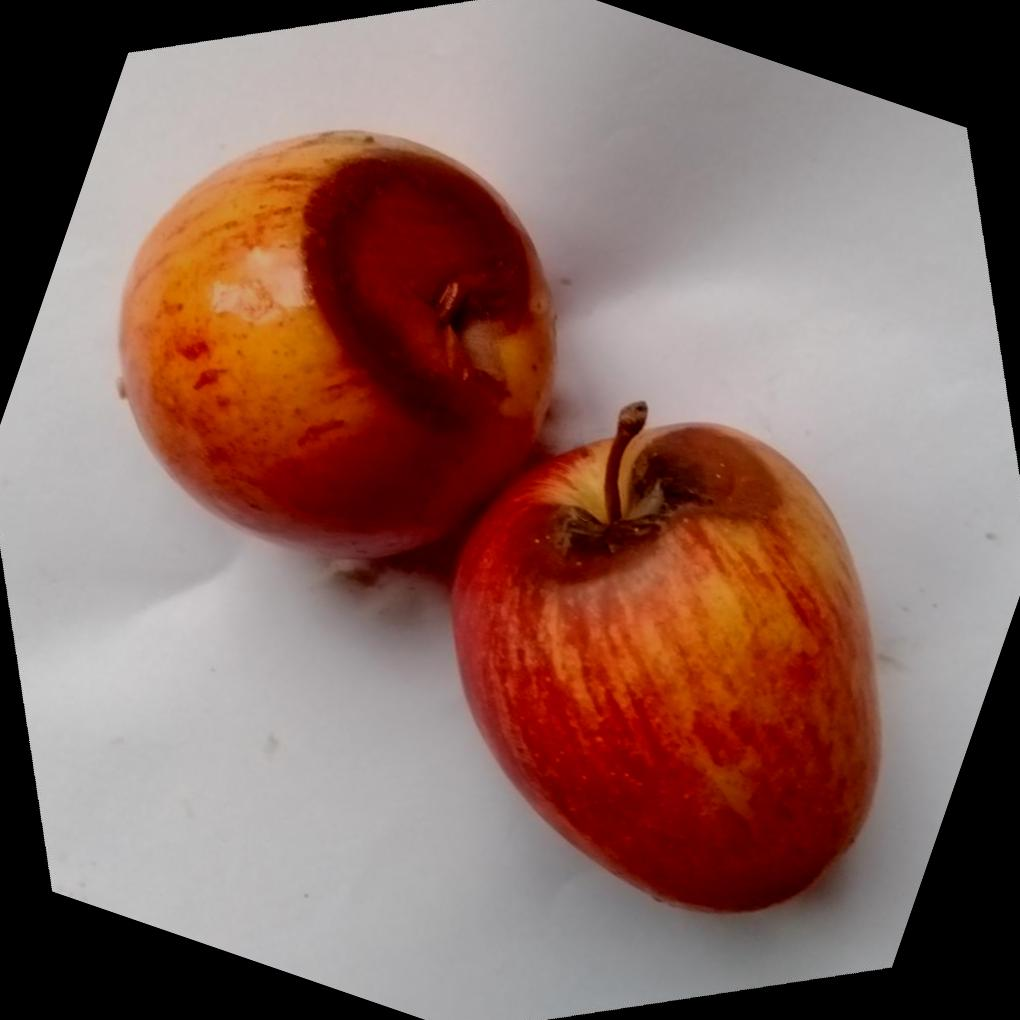FreshOrange: (119, 130, 881, 917)
